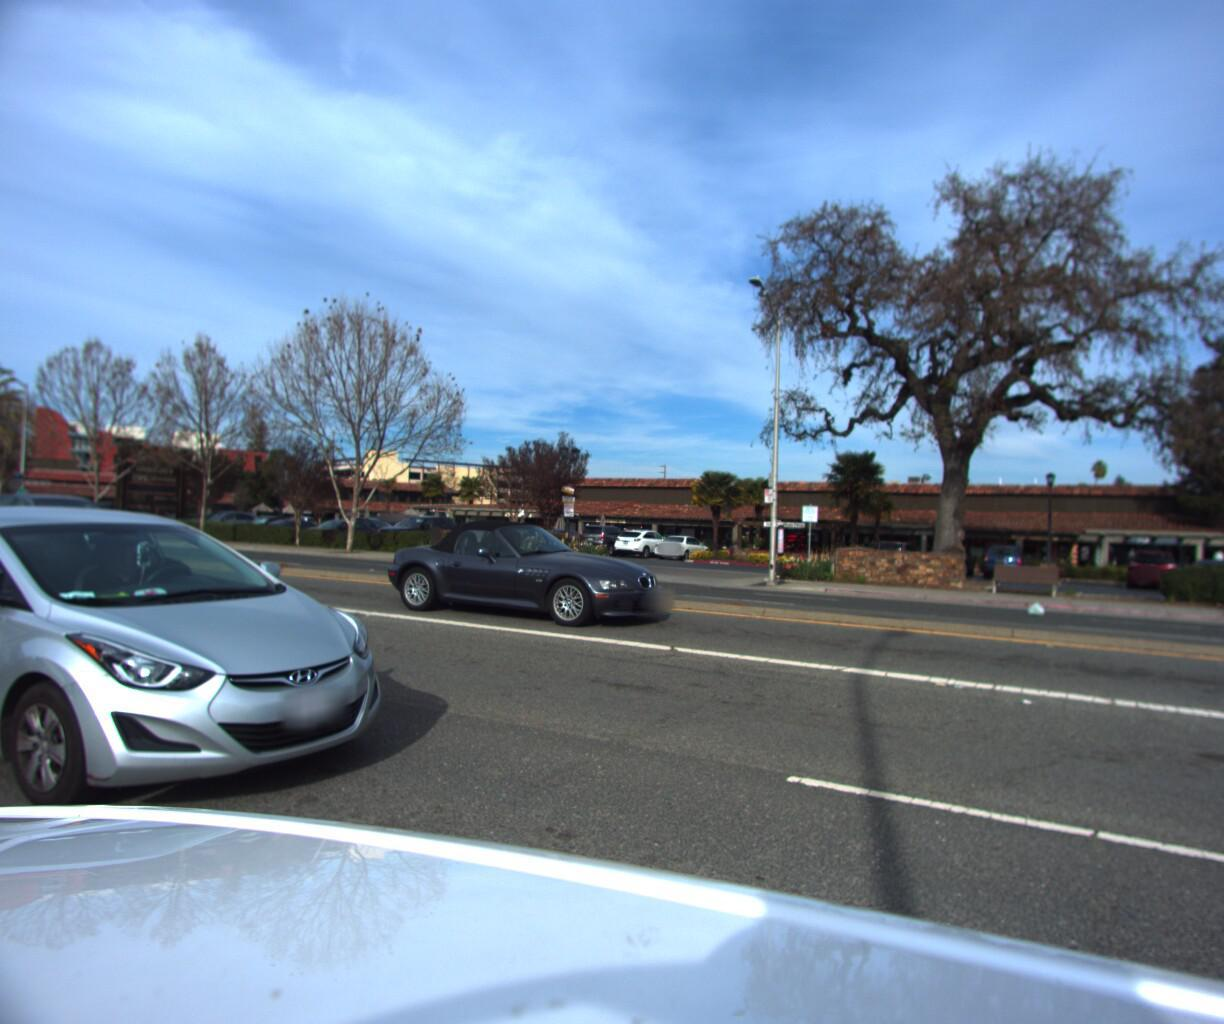car: (0, 496, 443, 856), (373, 513, 681, 630), (0, 494, 176, 573), (449, 517, 537, 559), (369, 514, 461, 554), (1179, 548, 1224, 601)
